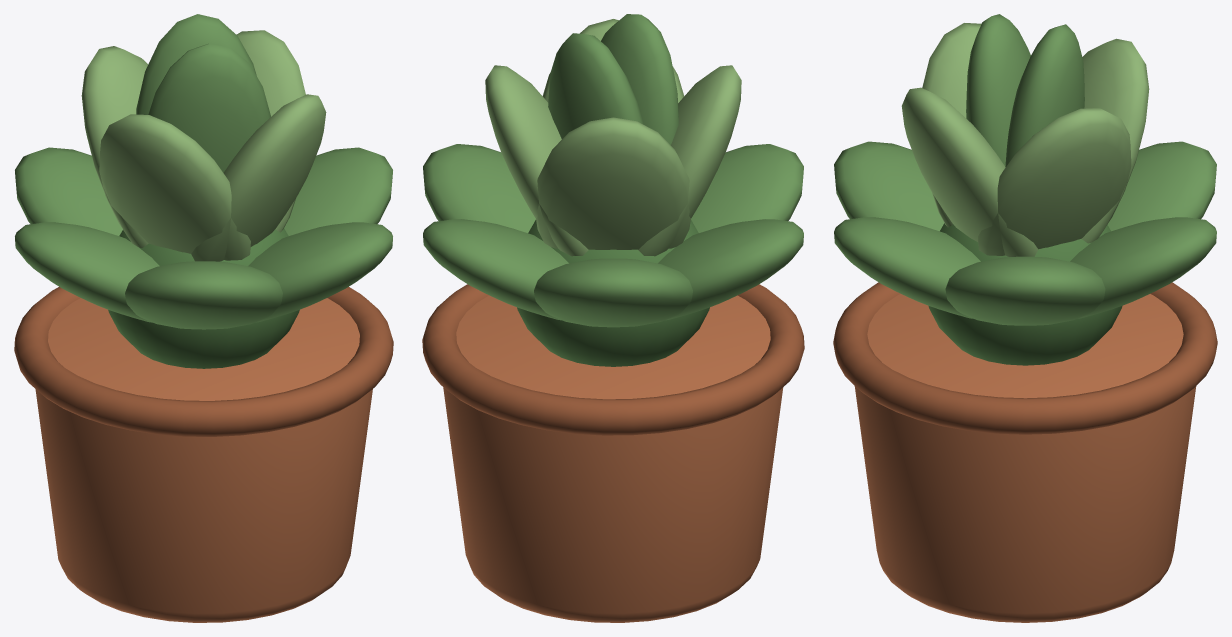
The model's file is plant_small.glb.
3 renders of one model, left to right at view 1: azimuth 30°, elevation 25°; view 2: azimuth 150°, elevation 25°; view 3: azimuth 270°, elevation 25°, orthographic.
Parts seen in each view (by area): view 1: plant_small_pot, plant_small_pot_rim, plant_small_leaf.008, plant_small_leaf.009, plant_small_leaf.011, plant_small_leaf.004, plant_small_leaf.005, plant_small_leaf.003, plant_small_heart, plant_small_leaf, plant_small_leaf.002, plant_small_leaf.007 (+2 smaller); view 2: plant_small_pot, plant_small_pot_rim, plant_small_leaf.007, plant_small_leaf.002, plant_small_leaf.001, plant_small_leaf.003, plant_small_heart, plant_small_leaf.006, plant_small_leaf, plant_small_leaf.004, plant_small_leaf.008, plant_small_leaf.010 (+2 smaller); view 3: plant_small_pot, plant_small_pot_rim, plant_small_leaf.006, plant_small_leaf.009, plant_small_leaf, plant_small_leaf.005, plant_small_leaf.001, plant_small_heart, plant_small_leaf.004, plant_small_leaf.002, plant_small_leaf.010, plant_small_leaf.011 (+2 smaller).
Part boxes in pixels (bbox=[...]): plant_small_pot: bbox=[35, 298, 372, 622]; plant_small_pot_rim: bbox=[14, 287, 393, 436]; plant_small_leaf.008: bbox=[99, 114, 250, 260]; plant_small_leaf.009: bbox=[191, 94, 326, 261]; plant_small_leaf.011: bbox=[148, 43, 270, 172]; plant_small_leaf.004: bbox=[125, 261, 282, 329]; plant_small_leaf.005: bbox=[248, 222, 392, 322]; plant_small_leaf.003: bbox=[15, 222, 159, 322]; plant_small_heart: bbox=[108, 228, 299, 368]; plant_small_leaf: bbox=[284, 147, 392, 235]; plant_small_leaf.002: bbox=[15, 147, 122, 235]; plant_small_leaf.007: bbox=[81, 46, 148, 247]; plant_small_pot: bbox=[443, 295, 783, 622]; plant_small_pot_rim: bbox=[422, 284, 804, 435]; plant_small_leaf.007: bbox=[536, 117, 690, 249]; plant_small_leaf.002: bbox=[534, 258, 692, 327]; plant_small_leaf.001: bbox=[423, 219, 568, 320]; plant_small_leaf.003: bbox=[658, 219, 803, 320]; plant_small_heart: bbox=[517, 220, 709, 366]; plant_small_leaf.006: bbox=[485, 65, 588, 256]; plant_small_leaf: bbox=[423, 144, 535, 232]; plant_small_leaf.004: bbox=[691, 144, 803, 232]; plant_small_leaf.008: bbox=[638, 65, 741, 256]; plant_small_leaf.010: bbox=[548, 33, 643, 138]; plant_small_pot: bbox=[854, 294, 1196, 622]; plant_small_pot_rim: bbox=[833, 282, 1217, 434]; plant_small_leaf.006: bbox=[978, 108, 1131, 255]; plant_small_leaf.009: bbox=[901, 87, 1038, 256]; plant_small_leaf: bbox=[945, 256, 1105, 325]; plant_small_leaf.005: bbox=[834, 217, 980, 318]; plant_small_leaf.001: bbox=[1070, 217, 1216, 318]; plant_small_heart: bbox=[928, 223, 1122, 365]; plant_small_leaf.004: bbox=[834, 141, 944, 231]; plant_small_leaf.002: bbox=[1107, 141, 1216, 231]; plant_small_leaf.010: bbox=[1005, 24, 1084, 166]; plant_small_leaf.011: bbox=[966, 14, 1030, 166].
Bounding box in the file's own units: 0.1845 × 0.2629 × 0.168.
